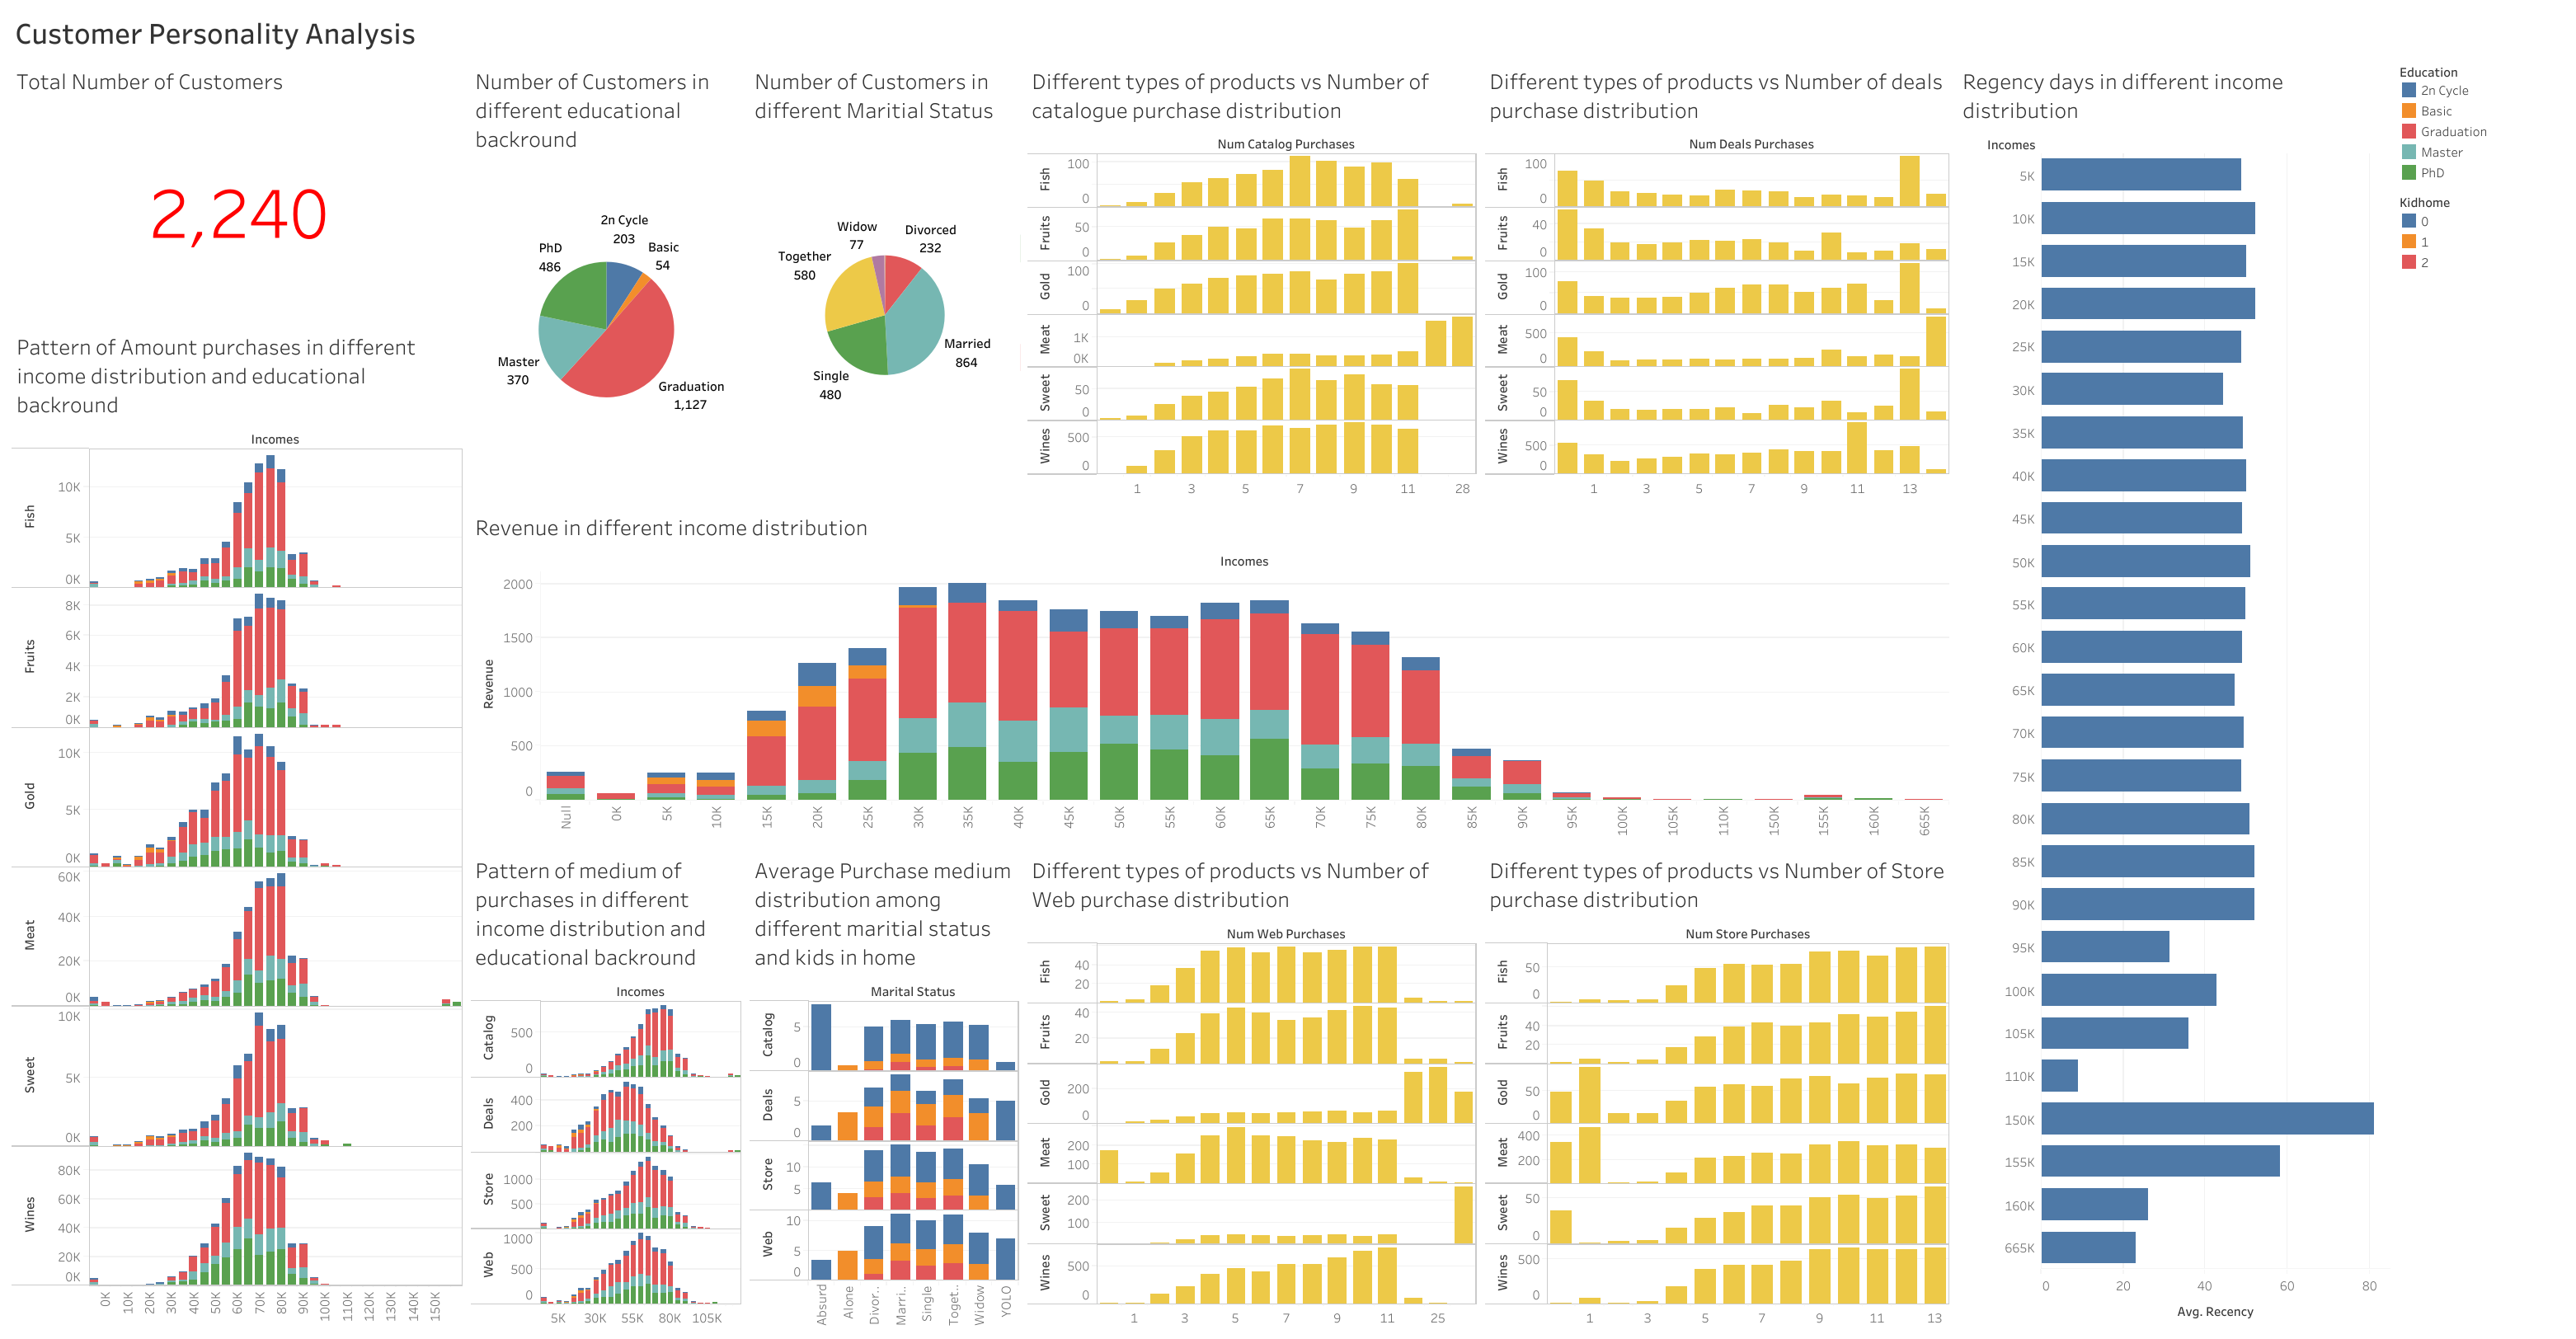

Layout of this report page (visuals, bound fields, positions):
{"tool":"tableau","page":{"name":"Dashboard 1","canvas":[2500,1300],"ordinal":0},"visuals":[{"type":"title","box":[8,8,2484,53]},{"type":"worksheet","title":"Sheet 1","mark":"Automatic","box":[8,61,444.8,257]},{"type":"worksheet","title":"Sheet 2","mark":"Pie","box":[452.8,61,270.8,430.4]},{"type":"worksheet","title":"Sheet 3","mark":"Pie","box":[723.7,61,268.9,430.4]},{"type":"worksheet","title":"Sheet 7","mark":"Automatic","rows":["MntFishProducts","MntFruits","MntGoldProds","MntMeatProducts","MntSweetProducts","MntWines"],"cols":["NumCatalogPurchases"],"box":[992.6,61,444.5,430.4]},{"type":"worksheet","title":"Sheet 7 (2)","mark":"Automatic","rows":["MntFishProducts","MntFruits","MntGoldProds","MntMeatProducts","MntSweetProducts","MntWines"],"cols":["NumDealsPurchases"],"box":[1437,61,459,430.4]},{"type":"worksheet","title":"Sheet 11","mark":"Automatic","rows":["Income (bin)"],"cols":["Recency"],"box":[1896,61,427,1231]},{"type":"legend","title":"Sheet 4","param":"[federated.16jkj0v0btjotn14de5bd04btmg0].[none:Education:nk]","box":[2323,61,169,135]},{"type":"legend","title":"Sheet 6","param":"[federated.16jkj0v0btjotn14de5bd04btmg0].[none:Kidhome:ok]","box":[2323,196,169,93]},{"type":"worksheet","title":"Sheet 4","mark":"Automatic","rows":["MntFishProducts","MntFruits","MntGoldProds","MntMeatProducts","MntSweetProducts","MntWines"],"cols":["Income (bin)"],"box":[8,318,444.8,974]},{"type":"worksheet","title":"Sheet 12","mark":"Automatic","rows":["Z_Revenue"],"cols":["Income (bin)"],"box":[452.8,491.4,1443.2,331.3]},{"type":"worksheet","title":"Sheet 5","mark":"Automatic","rows":["NumCatalogPurchases","NumDealsPurchases","NumStorePurchases","NumWebPurchases"],"cols":["Income (bin)"],"box":[452.8,822.7,270.8,469.3]},{"type":"worksheet","title":"Sheet 6","mark":"Automatic","rows":["NumCatalogPurchases","NumDealsPurchases","NumStorePurchases","NumWebPurchases"],"cols":["Marital_Status"],"box":[723.7,822.7,268.9,469.3]},{"type":"worksheet","title":"Sheet 7 (4)","mark":"Automatic","rows":["MntFishProducts","MntFruits","MntGoldProds","MntMeatProducts","MntSweetProducts","MntWines"],"cols":["NumWebPurchases"],"box":[992.6,822.7,444.5,469.3]},{"type":"worksheet","title":"Sheet 7 (3)","mark":"Automatic","rows":["MntFishProducts","MntFruits","MntGoldProds","MntMeatProducts","MntSweetProducts","MntWines"],"cols":["NumStorePurchases"],"box":[1437,822.7,459,469.3]}]}

Visuals, with their boxes in screenshot pixels (x1, y1, x2, y2), scaled from the page's 2500x1300 canvas onto the 2576x1339 screenshot:
title: [left=8, top=8, right=2568, bottom=63]
"Sheet 1" worksheet: [left=8, top=63, right=467, bottom=327]
"Sheet 2" worksheet (Pie marks): [left=467, top=63, right=745, bottom=506]
"Sheet 3" worksheet (Pie marks): [left=745, top=63, right=1022, bottom=506]
"Sheet 7" worksheet: [left=1022, top=63, right=1481, bottom=506]
"Sheet 7 (2)" worksheet: [left=1481, top=63, right=1953, bottom=506]
"Sheet 11" worksheet: [left=1953, top=63, right=2394, bottom=1331]
"Sheet 4" legend: [left=2394, top=63, right=2568, bottom=202]
"Sheet 6" legend: [left=2394, top=202, right=2568, bottom=298]
"Sheet 4" worksheet: [left=8, top=327, right=467, bottom=1331]
"Sheet 12" worksheet: [left=467, top=506, right=1953, bottom=848]
"Sheet 5" worksheet: [left=467, top=848, right=745, bottom=1331]
"Sheet 6" worksheet: [left=745, top=848, right=1022, bottom=1331]
"Sheet 7 (4)" worksheet: [left=1022, top=848, right=1481, bottom=1331]
"Sheet 7 (3)" worksheet: [left=1481, top=848, right=1953, bottom=1331]
